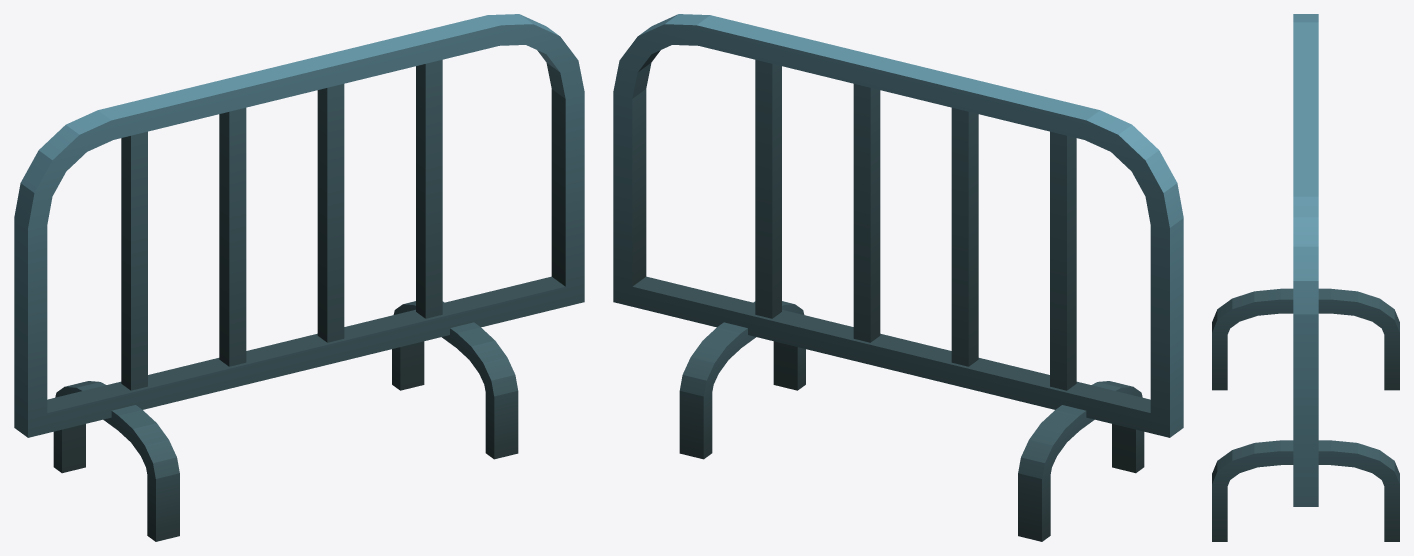
The model's file is lpb_fence_9.fbx.
The picture shows the model from 3 angles, left to right: view 1: azimuth 30°, elevation 25°; view 2: azimuth 150°, elevation 25°; view 3: azimuth 270°, elevation 25°; orthographic projection. The views are drawn at different scales.
Parts seen in each view (by area): view 1: fence9; view 2: fence9; view 3: fence9.
Part boxes in pixels (x1,y1,x2,y2): fence9: [14, 14, 584, 541]; fence9: [613, 14, 1183, 541]; fence9: [1212, 14, 1399, 541].
Bounding box in the file's own units: 299 × 200 × 95.23.
